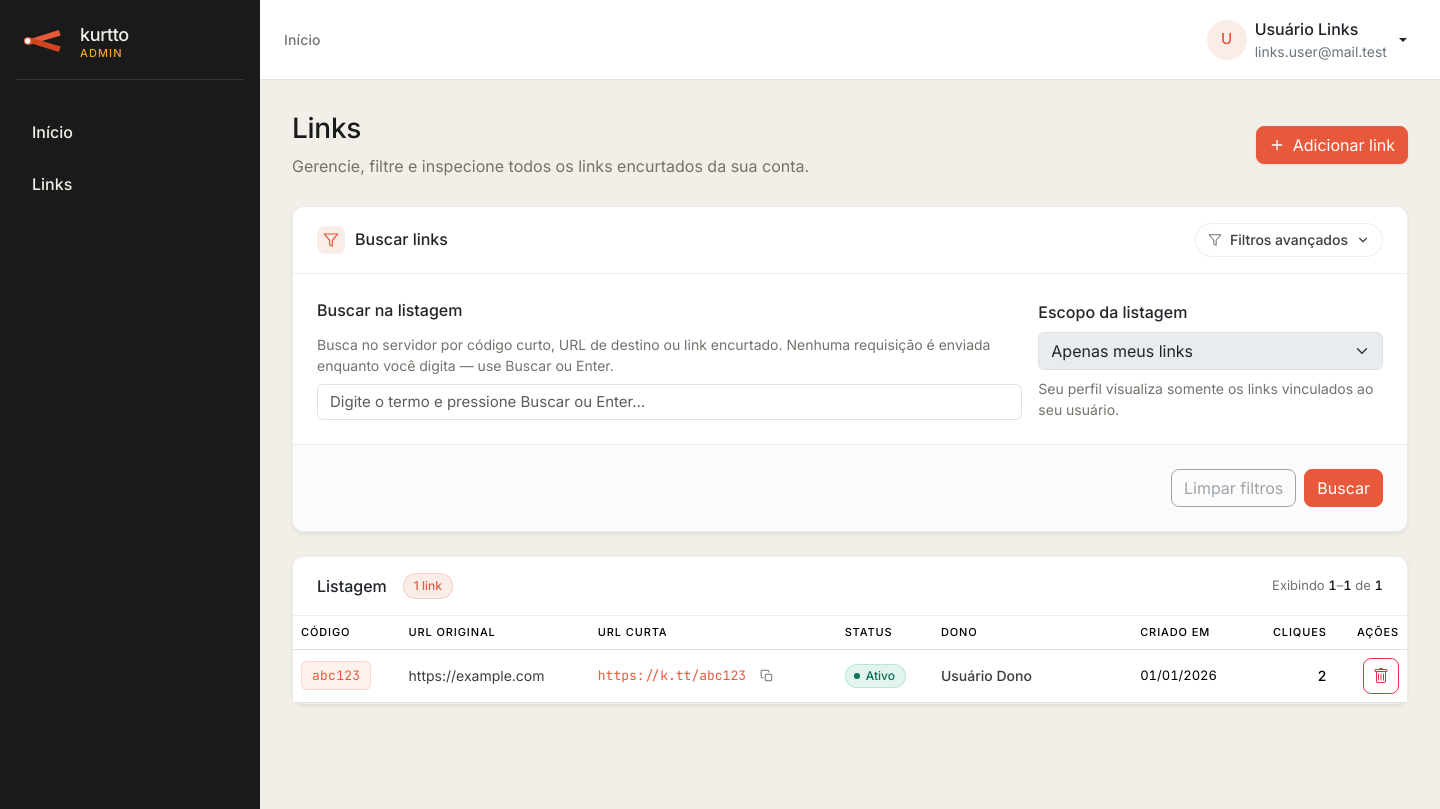
Scenario: Links › alterna expansão dos filtros avançados e reflete aria-expanded
Expected: the link "https://example.com" is shown, [409,667,545,684]
What coordinates should you click on to do the following:
click the button "Filtros avançados"
I would click on:
 (1289, 240)
Its box is [1195,223,1383,257].
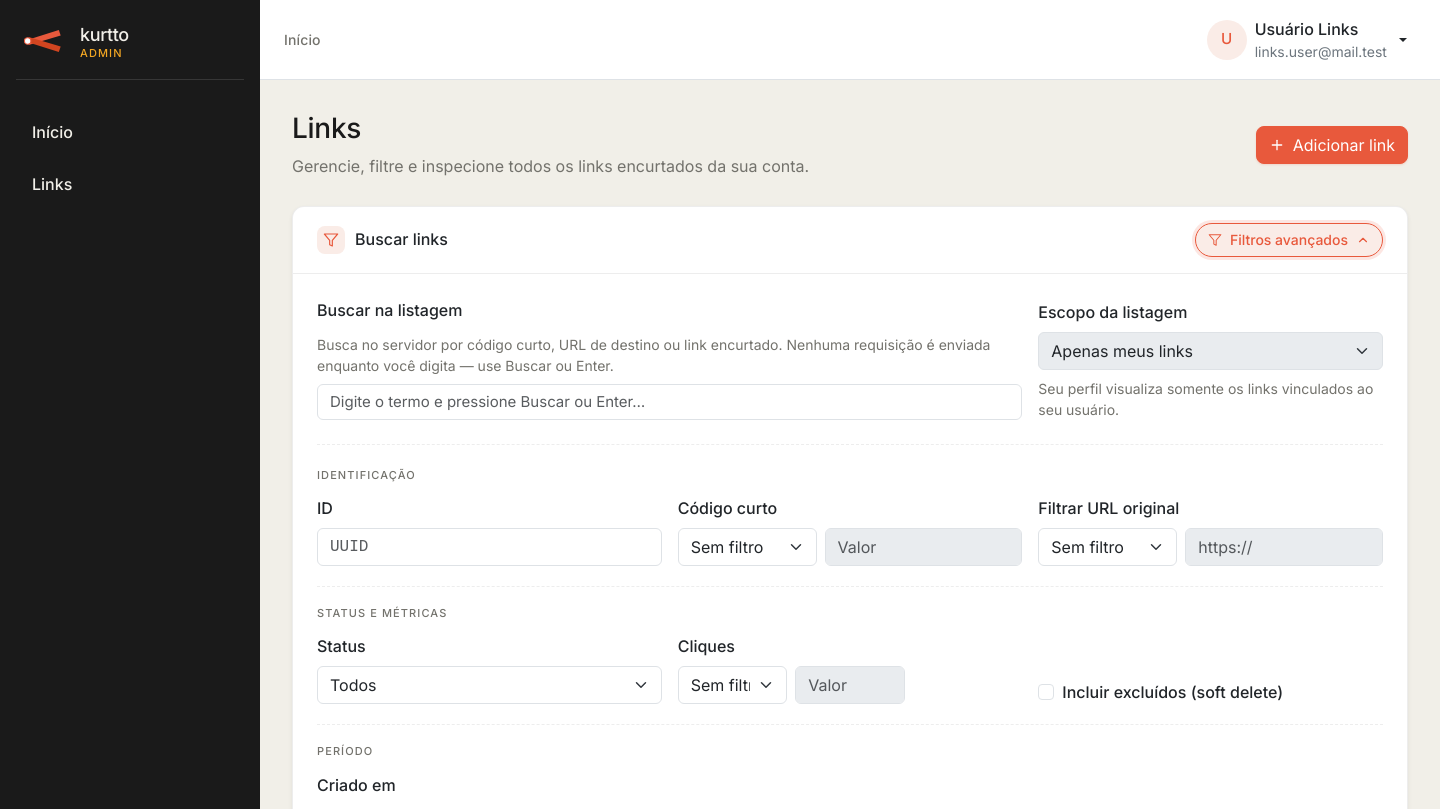
Expected: the button "Filtros avançados" is expanded
What coordinates should you click on to do the following:
click the button "Filtros avançados"
I would click on:
 (1289, 240)
Its box is [1195,223,1383,257].
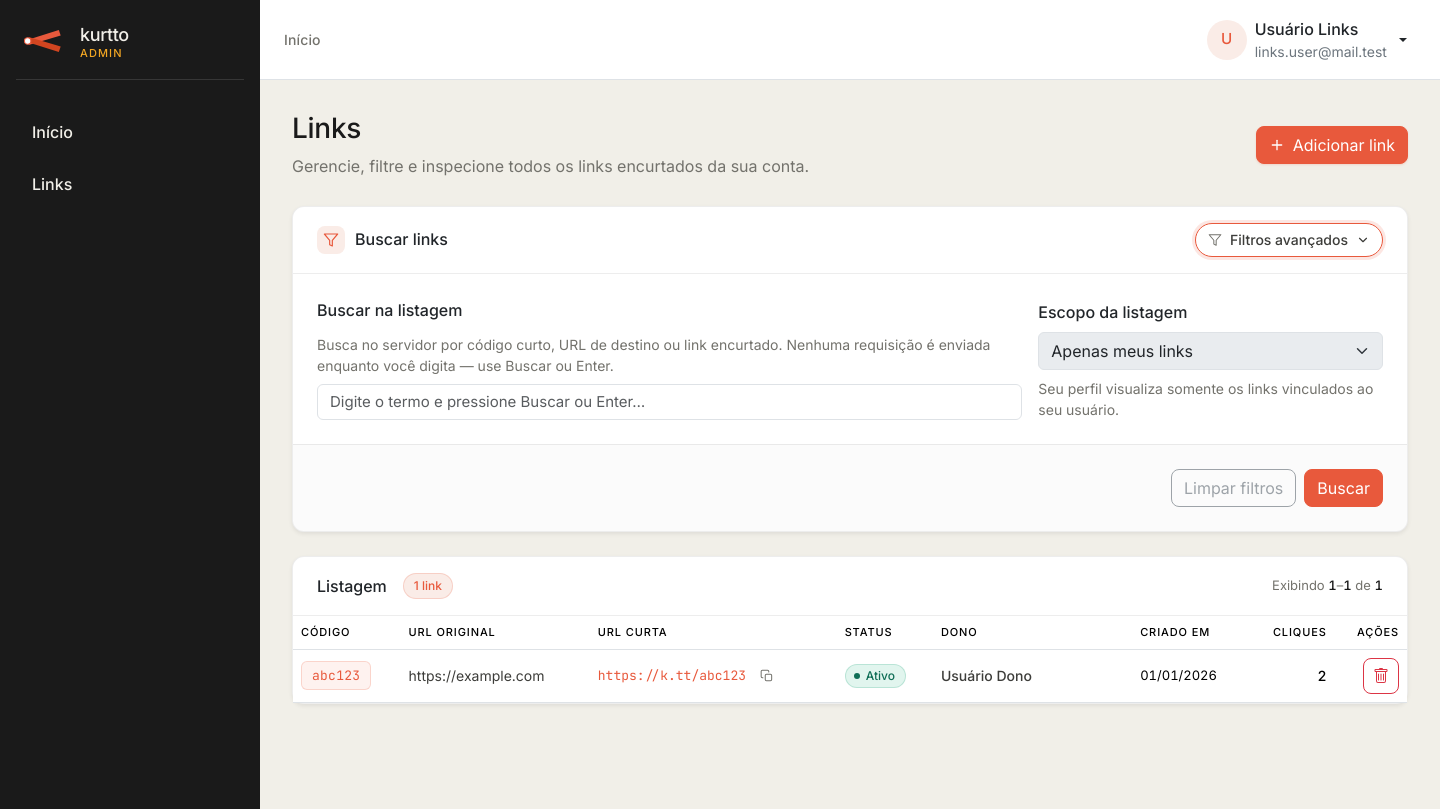
Expected: the button "Filtros avançados" is collapsed, [1195,223,1383,257]
